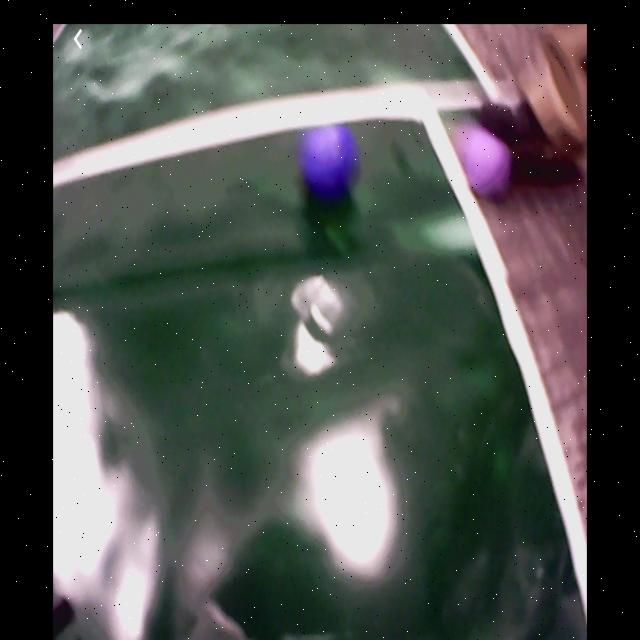ball: (461, 115, 509, 198), (302, 119, 354, 195)
